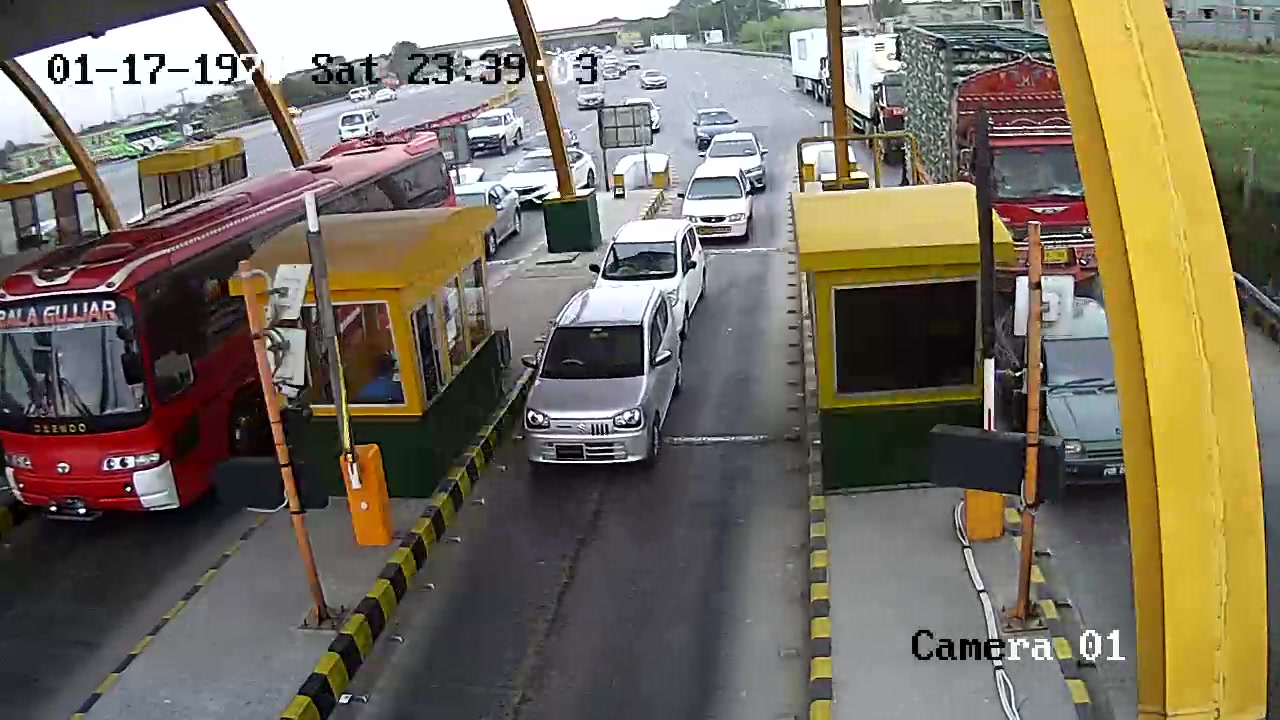F1: (515, 284, 688, 479)
